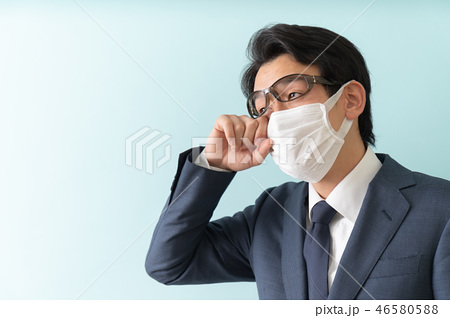mask: (262, 110, 346, 183)
